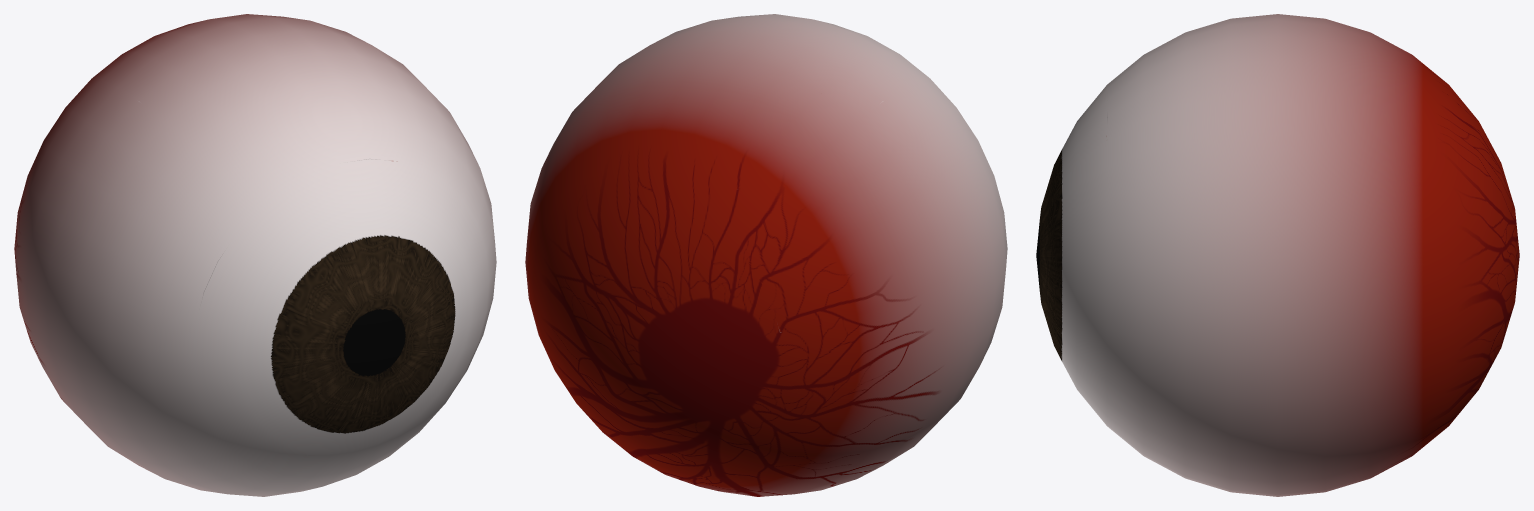
The model's file is simple_eye.dae.
The picture shows the model from 3 angles, left to right: view 1: azimuth 30°, elevation 25°; view 2: azimuth 150°, elevation 25°; view 3: azimuth 270°, elevation 25°; orthographic projection.
Parts seen in each view (by area): view 1: Sphere.001; view 2: Sphere.001; view 3: Sphere.001.
Boxes of the visible parts, <box> form: Sphere.001: <box>14,14,496,496</box>; Sphere.001: <box>525,14,1007,496</box>; Sphere.001: <box>1036,14,1519,496</box>.
Bounding box in the file's own units: 12.84 × 12.84 × 12.84.
Materials: 1 (1 with a texture image).
